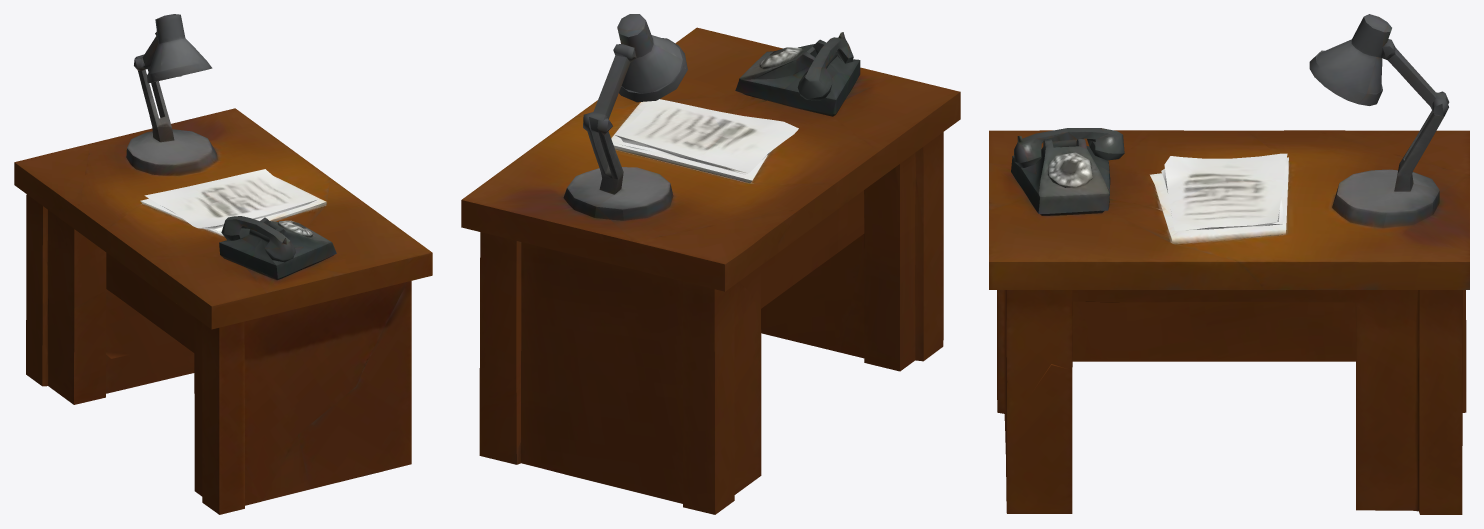
Rendered from desk.glb.
The picture shows the model from 3 angles, left to right: view 1: azimuth 30°, elevation 25°; view 2: azimuth 150°, elevation 25°; view 3: azimuth 270°, elevation 25°; orthographic projection. The views are drawn at different scales.
Visible parts, largest first — view 1: model; view 2: model; view 3: model.
Part boxes in pixels (<box>): model: <box>14,14,432,514</box>; model: <box>461,14,960,514</box>; model: <box>989,14,1469,514</box>.
Bounding box in the file's own units: 1.21 × 1.9 × 1.87.
1 material, 1 textured.
